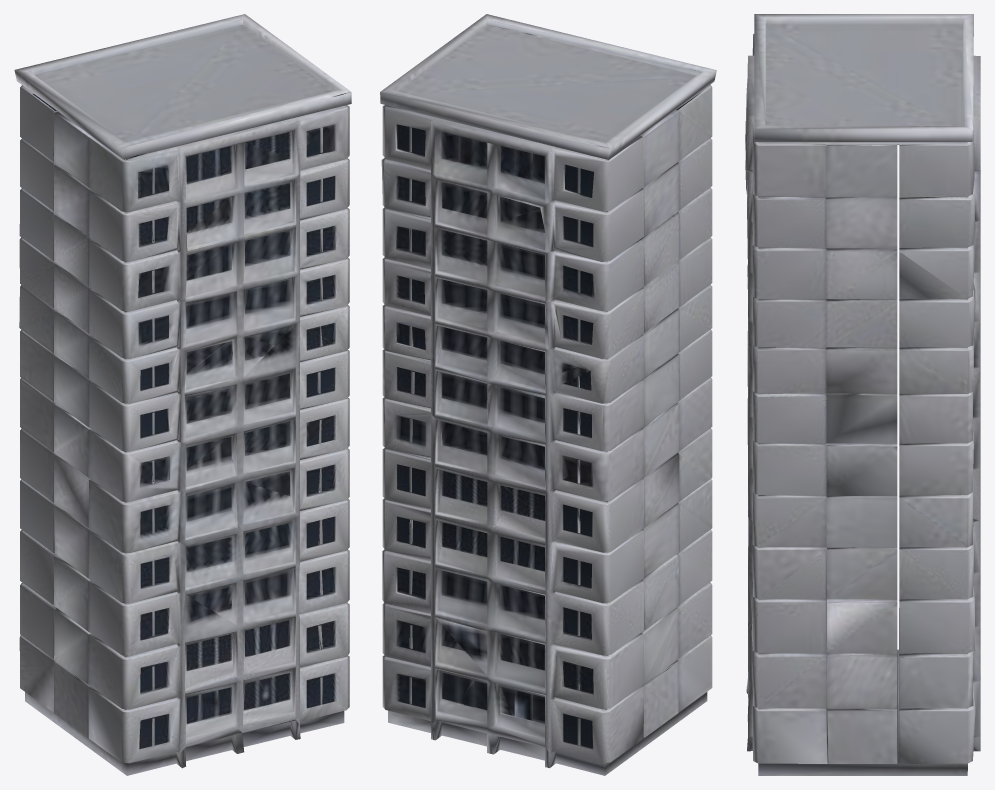
The model's file is 07-residential-tower.glb.
3 renders of one model, left to right at view 1: azimuth 30°, elevation 25°; view 2: azimuth 150°, elevation 25°; view 3: azimuth 270°, elevation 25°, orthographic. The views are drawn at different scales.
Parts seen in each view (by area): view 1: geometry_0; view 2: geometry_0; view 3: geometry_0.
Boxes of the visible parts, x1,y1,x2,y2 form: geometry_0: (14, 14, 351, 775); geometry_0: (380, 14, 716, 775); geometry_0: (745, 14, 980, 775).
Size of the model in its own units: 0.3627 by 0.9502 by 0.3121.
Materials: 1 (1 with a texture image).
